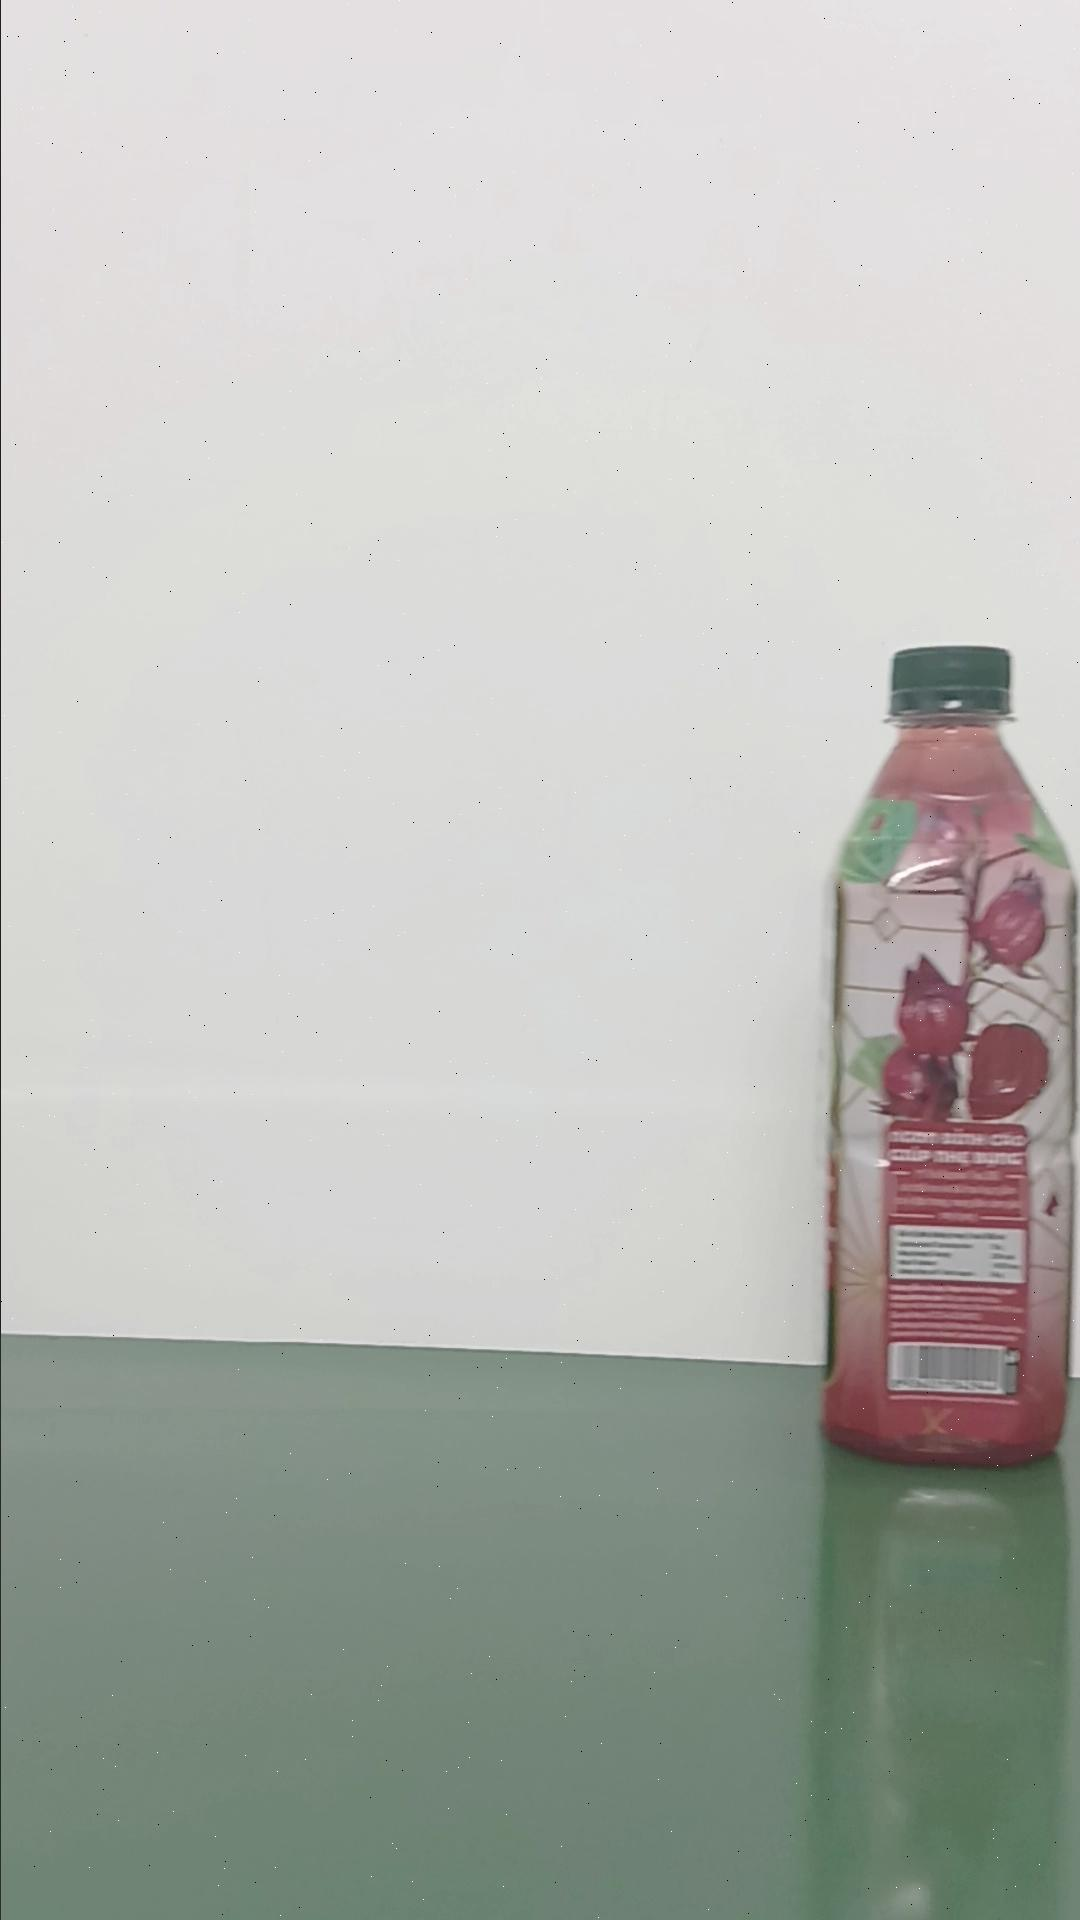loi rach va lap chai: (819, 641, 1076, 1473)
